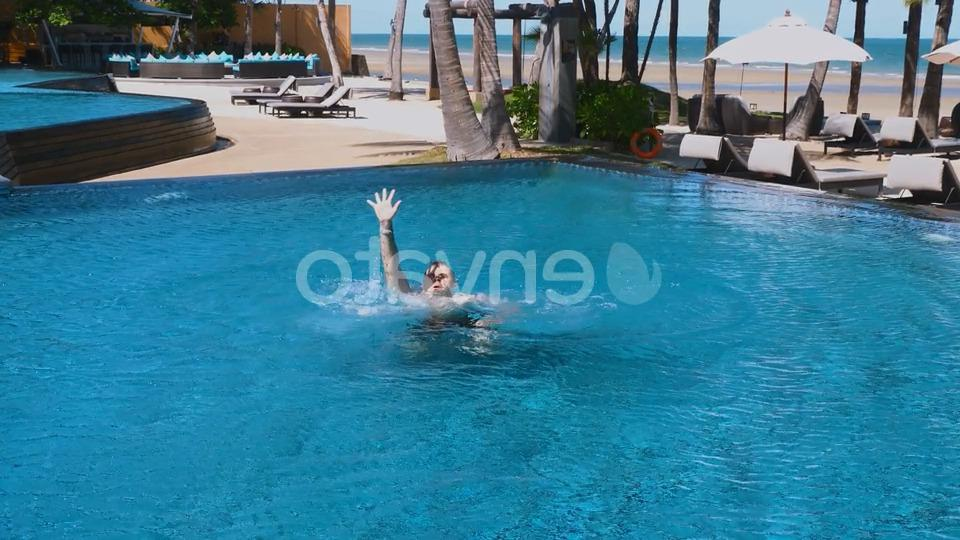Drowning: (270, 139, 608, 390)
